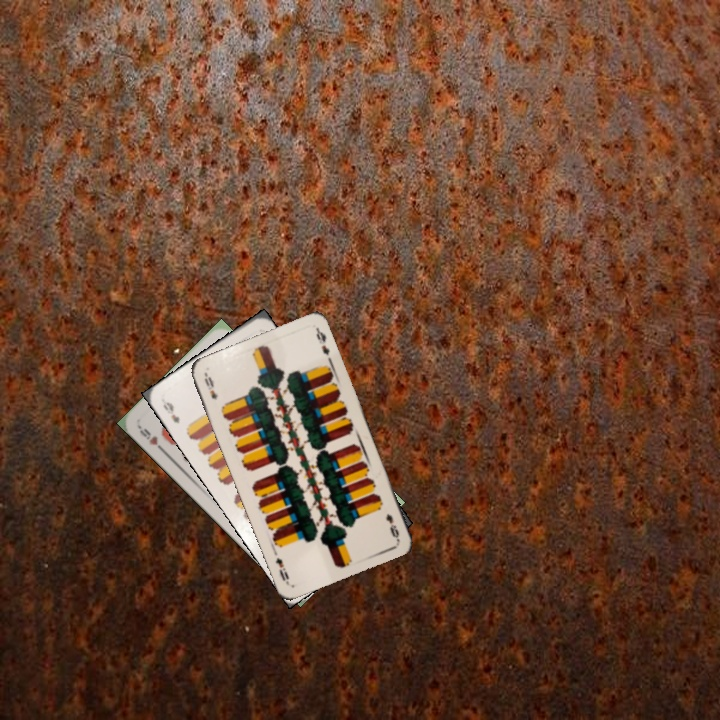E9: (159, 398, 183, 426), (200, 370, 221, 402), (382, 510, 402, 540)
H9: (134, 422, 167, 454)
